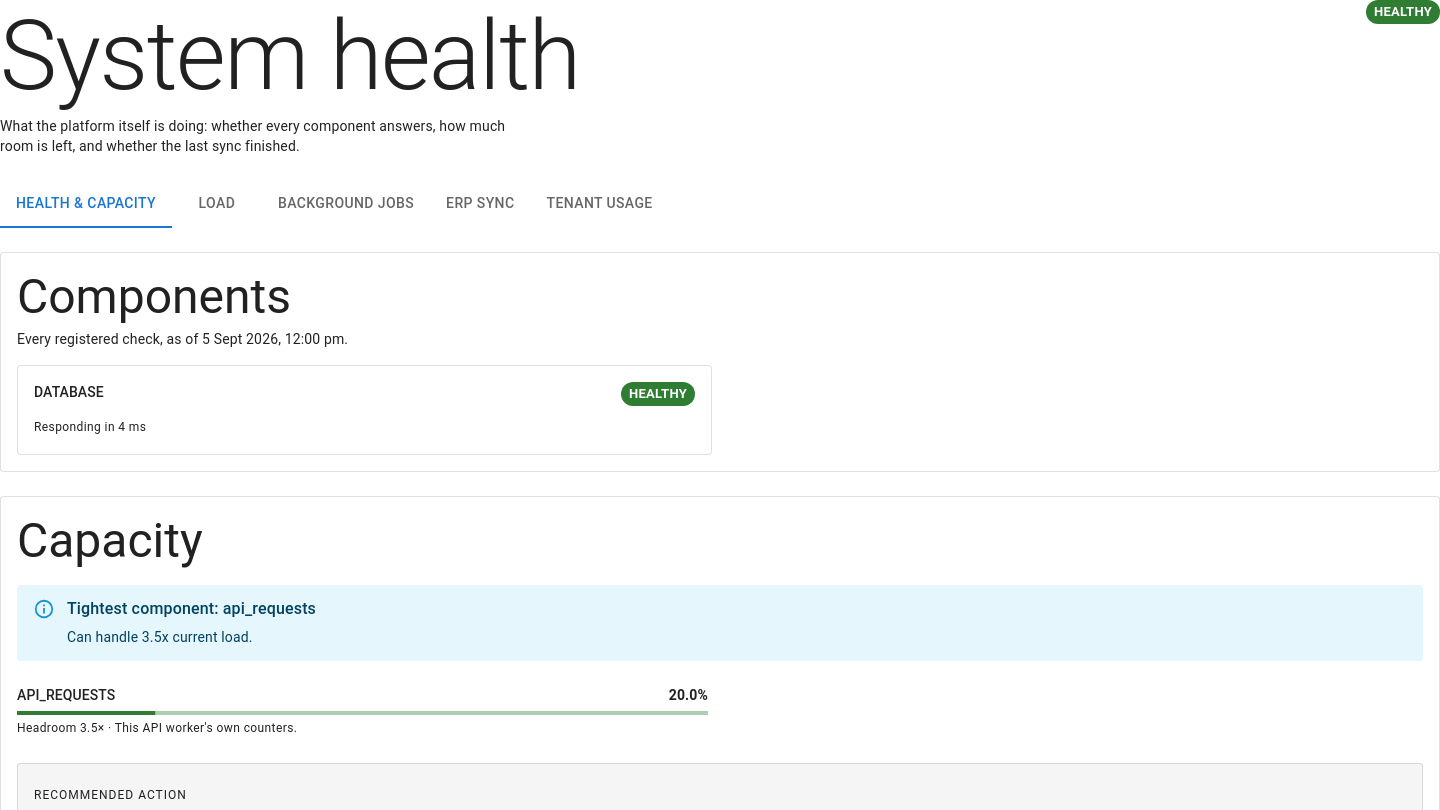
Scenario: an error rate with no denominator › says it is not known, never 0%
Step 1. Click the tab "Load" → (217, 204), box [172,180,262,228]
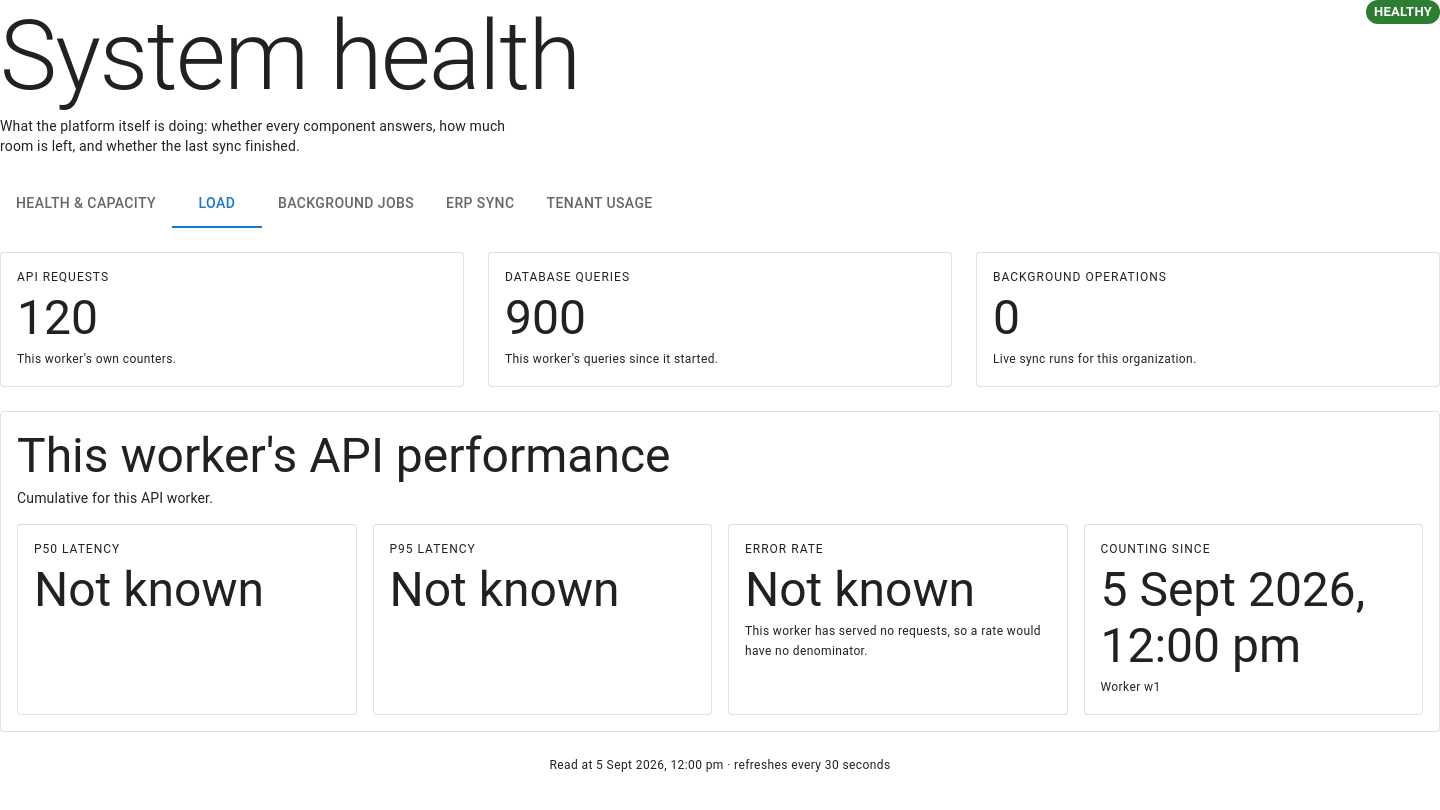
Expected: the number of headings "Not known" is 3, [34,561,264,618]; [390,561,620,618]; [745,561,975,618]
Expected: the text "0%" is gone
Expected: the text "no requests, so a rate would have no denominator" is shown, [745,624,1041,658]
